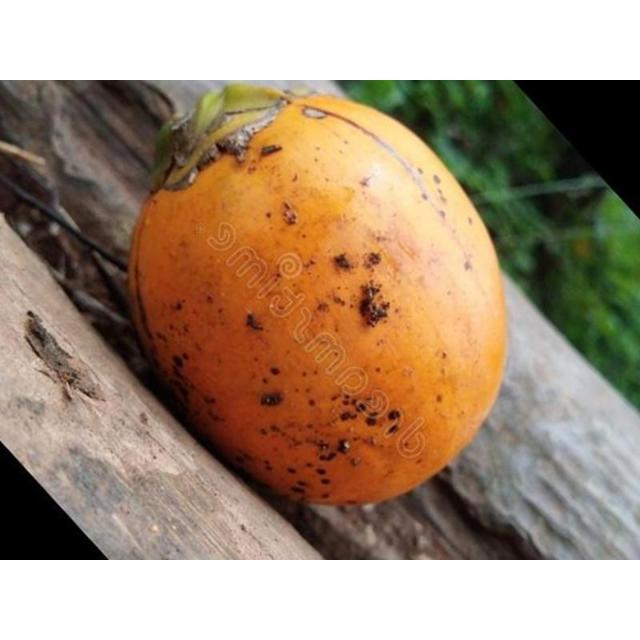good: (123, 83, 513, 511)
